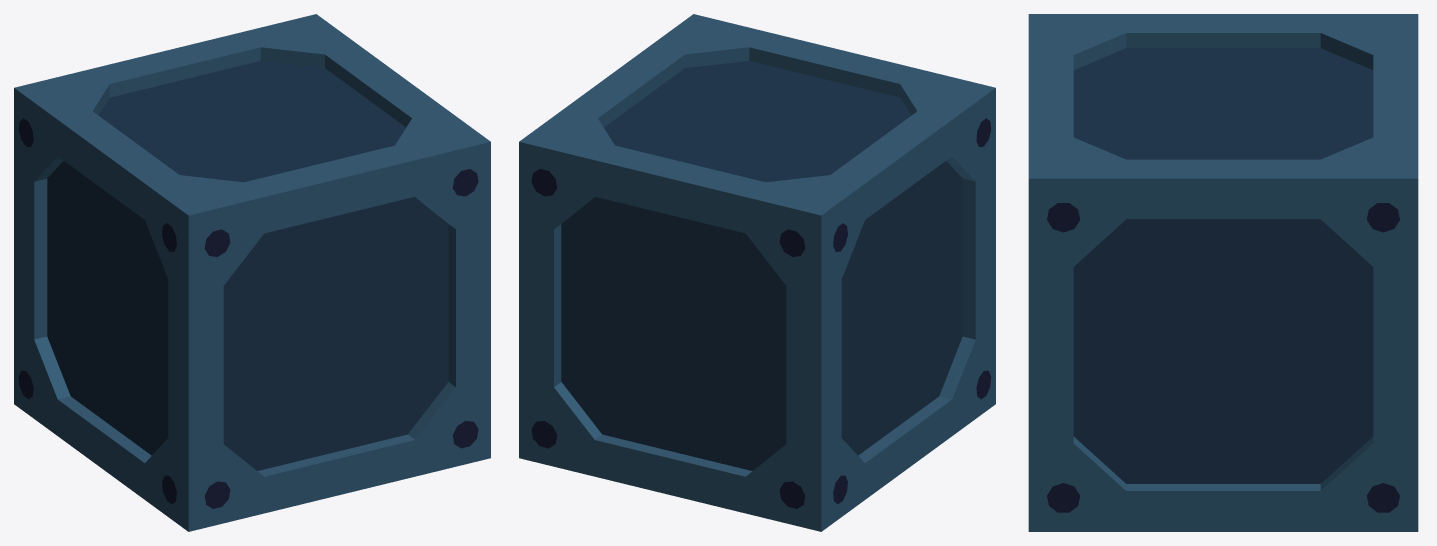
Rendered from Metal_box.fbx.
3 renders of one model, left to right at view 1: azimuth 30°, elevation 25°; view 2: azimuth 150°, elevation 25°; view 3: azimuth 270°, elevation 25°, orthographic. The views are drawn at different scales.
Visible parts, largest first — view 1: Metal_box; view 2: Metal_box; view 3: Metal_box.
Boxes of the visible parts, left/top/right/bottom form: Metal_box: left=14, top=14, right=490, bottom=531; Metal_box: left=519, top=14, right=995, bottom=531; Metal_box: left=1028, top=14, right=1418, bottom=531.
Size of the model in its own units: 61.33 by 60 by 61.33.
